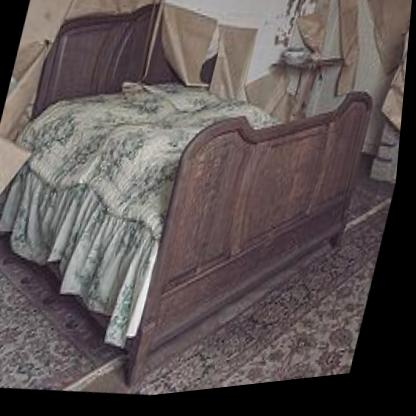Bed: (0, 0, 401, 416)
